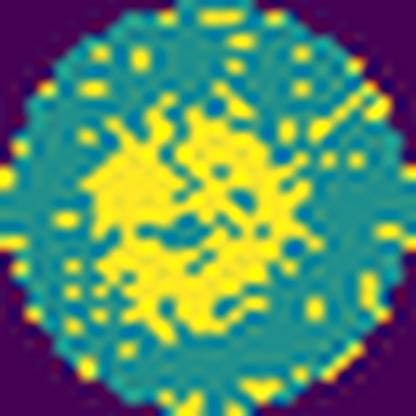Center: (77, 84, 329, 347)
